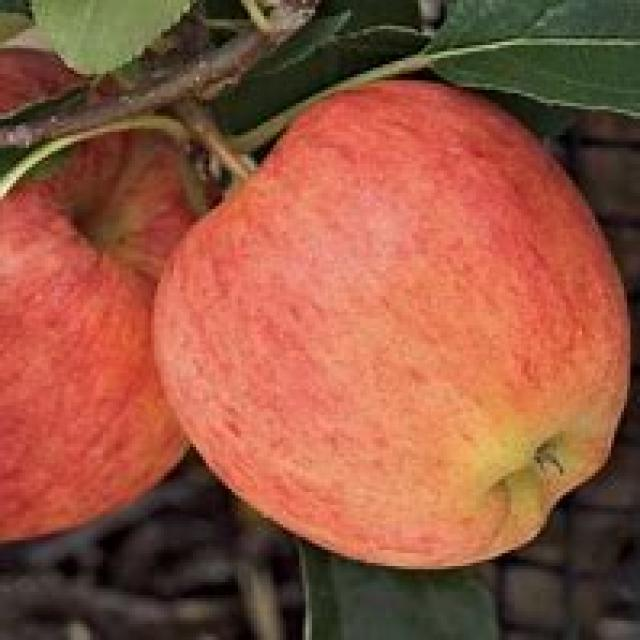apple: (150, 80, 634, 572)
